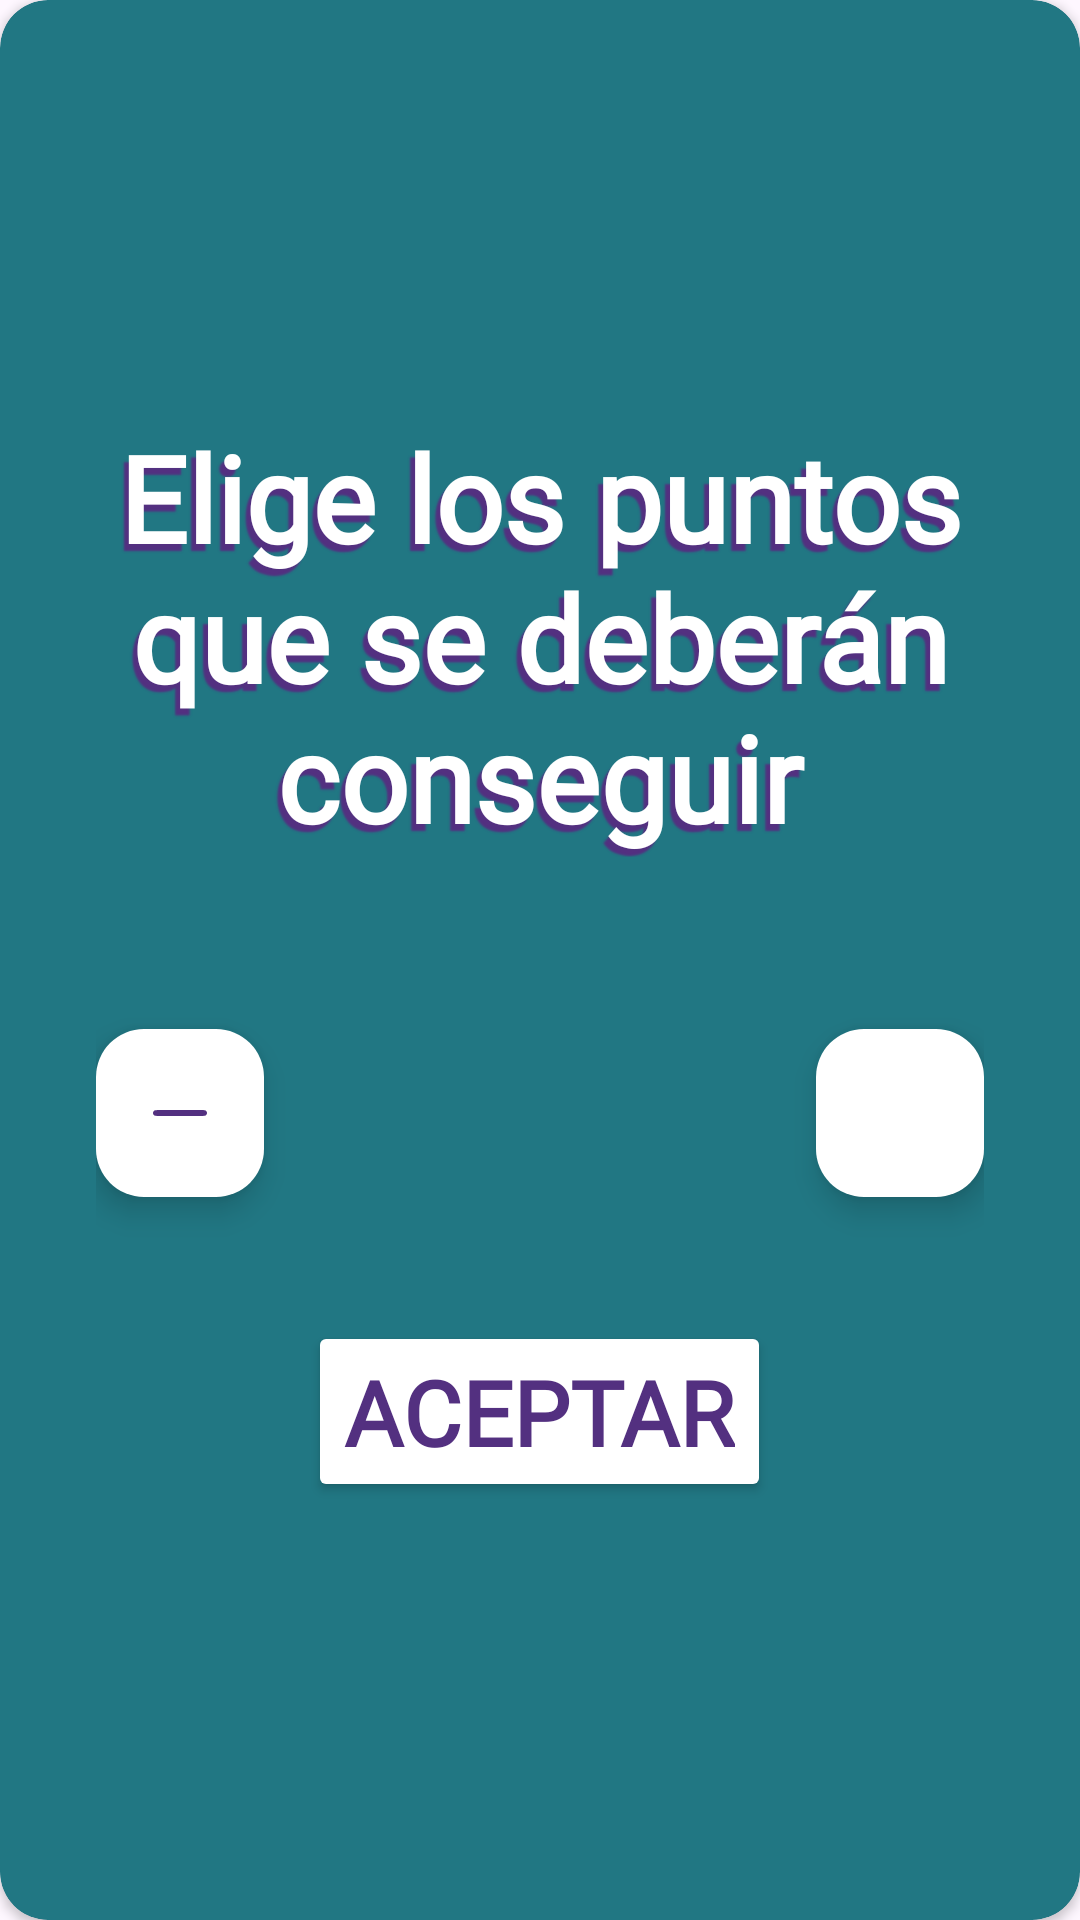

Point at icon controls on the screen. Image size 1080x1920, points as (x=x, y=y).
less: (x=180, y=1113)
